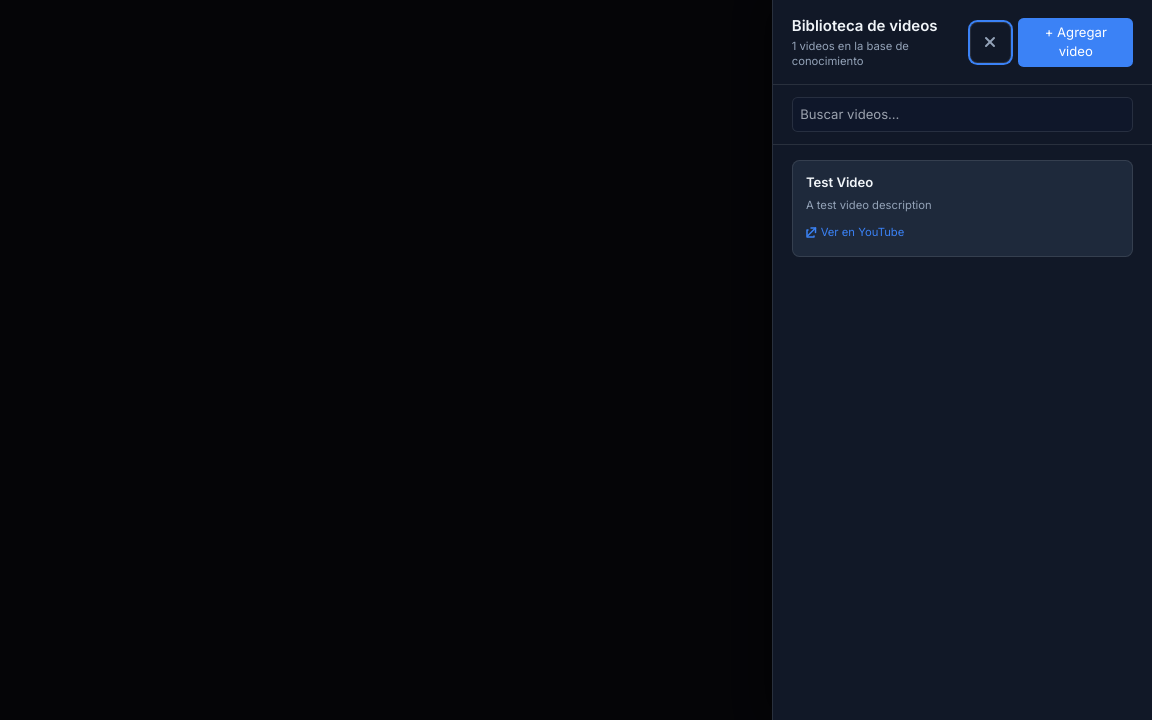
Test: VideoExplorer › handleIngest › shows validation error when URL is missing
This screenshot has width=1152, height=720.
Expected: the text "Test Video" is shown, [806, 174, 873, 190]
Note: Open the ingest dialog
Click the button "+ Agregar video". click: click(1076, 42)
box: [1018, 18, 1133, 67]
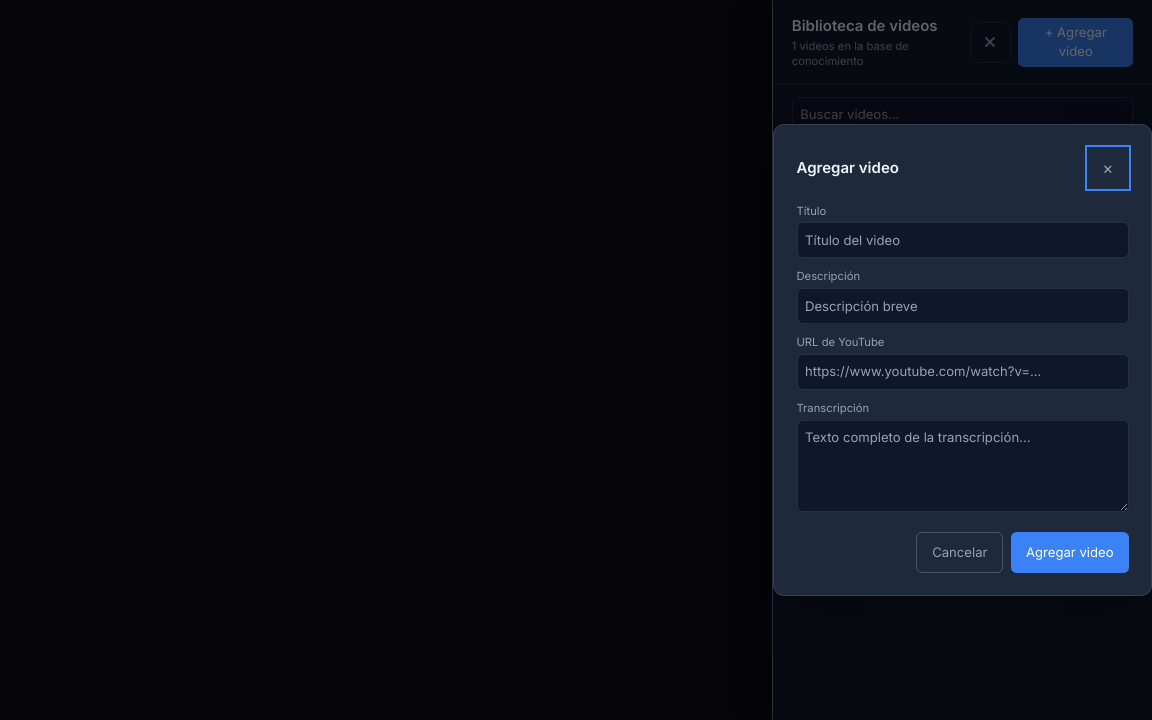
Note: Fill partial form (missing URL and transcript)
Type "Test Title" into the field labelled "Título". click: (962, 240)
box: [796, 222, 1128, 258]
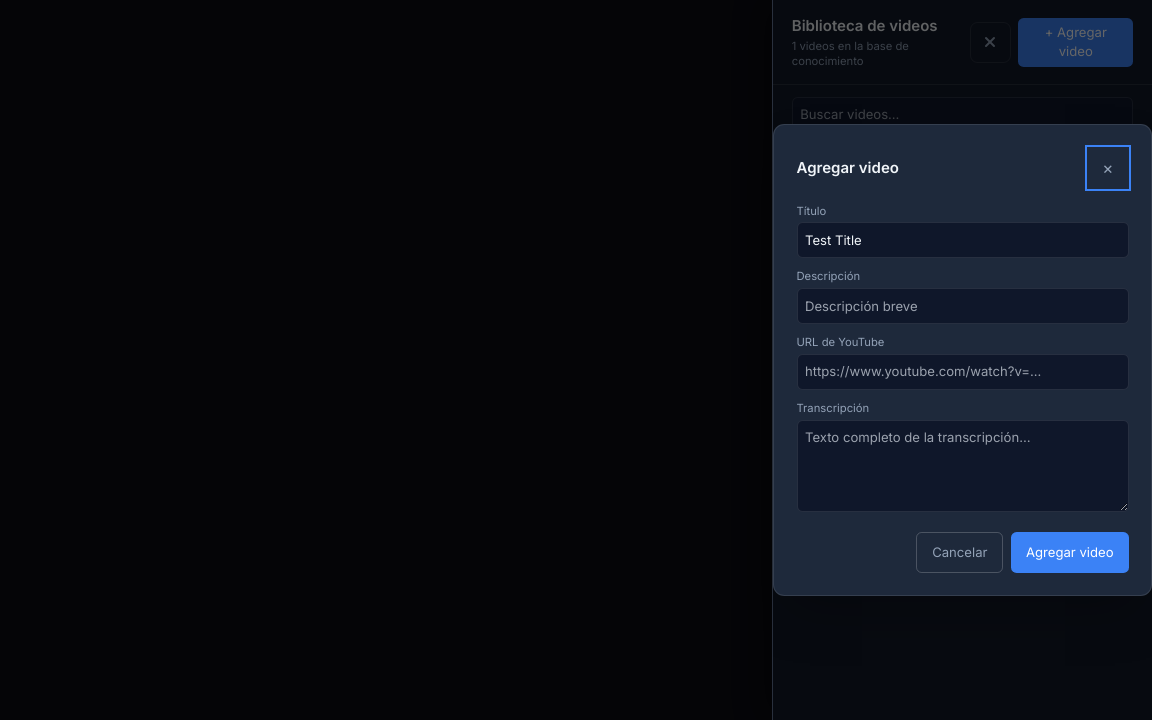
Type "Test Description" into the field labelled "Descripción". click: (962, 306)
box: [796, 288, 1128, 324]
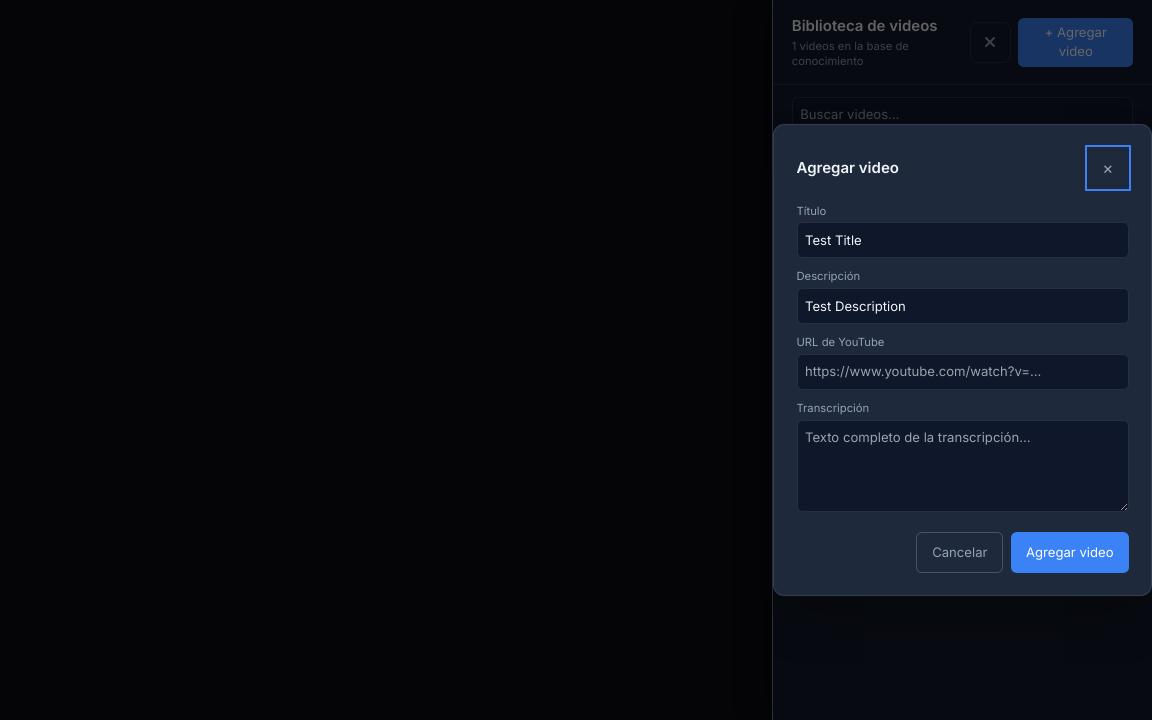
Note: Try to submit
Click the button "Agregar video". click: click(1070, 552)
box: [1011, 532, 1128, 573]
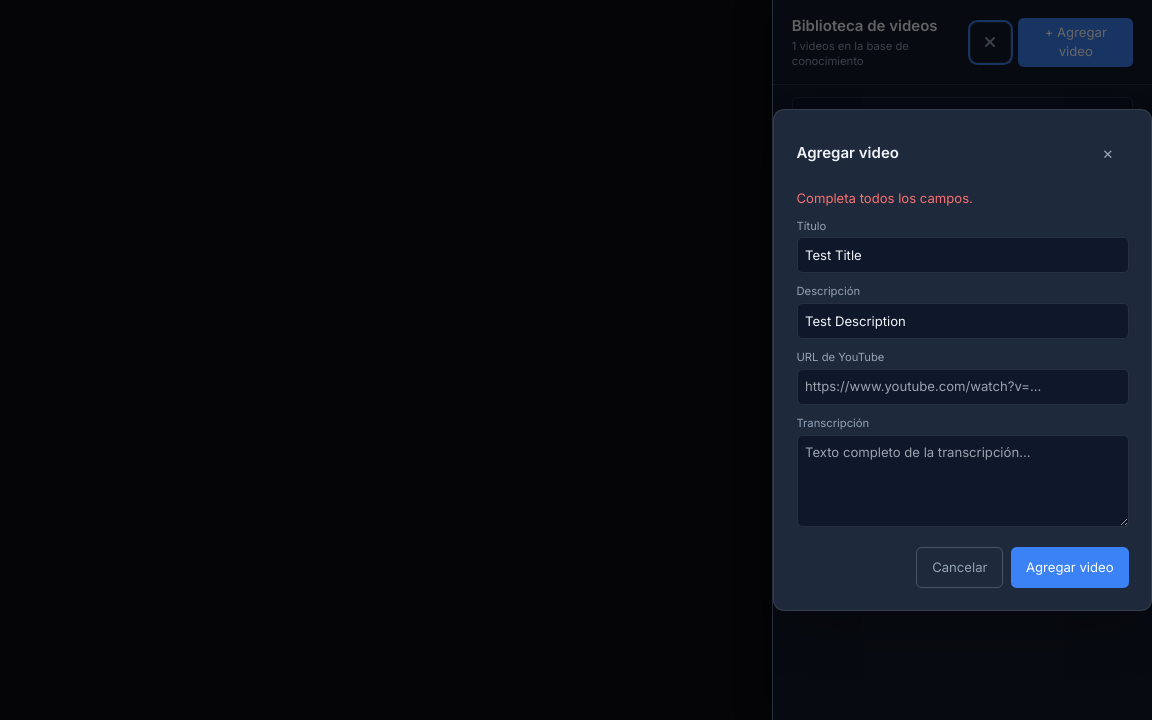
Result: the text "Completa todos los campos." is shown at [796, 190, 973, 206]
